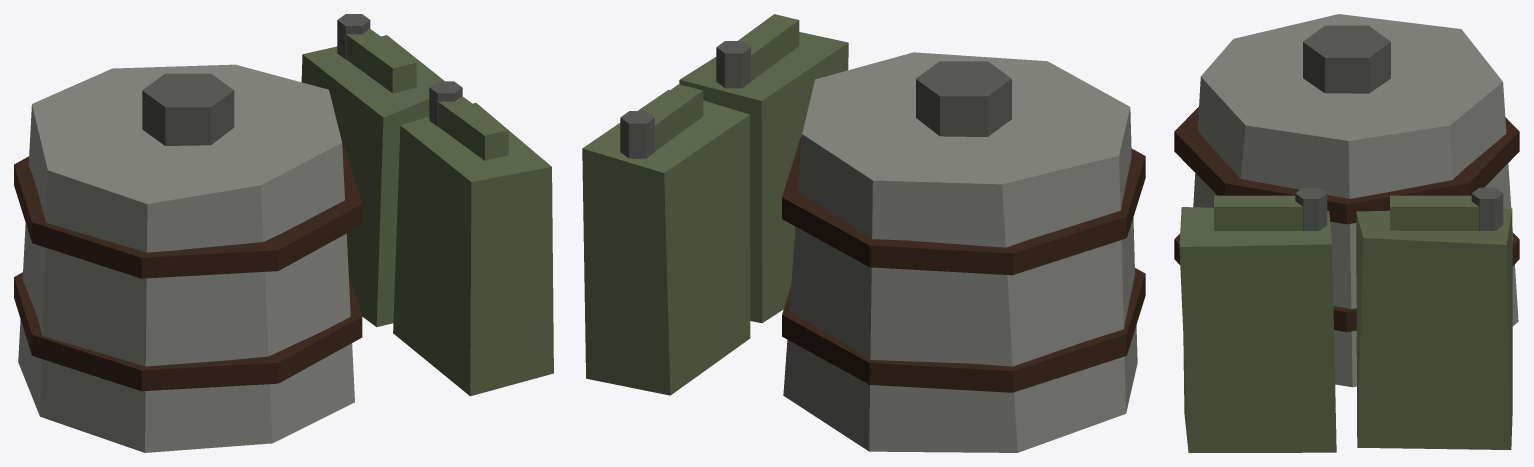
The model's file is good_water.glb.
3 renders of one model, left to right at view 1: azimuth 30°, elevation 25°; view 2: azimuth 150°, elevation 25°; view 3: azimuth 270°, elevation 25°, orthographic. The views are drawn at different scales.
Parts seen in each view (by area): view 1: good_water; view 2: good_water; view 3: good_water.
Boxes of the visible parts, x1,y1,x2,y2 form: good_water: [14, 14, 553, 452]; good_water: [582, 14, 1145, 452]; good_water: [1174, 14, 1519, 452].
Size of the model in its own units: 0.5513 by 0.35 by 0.392.
